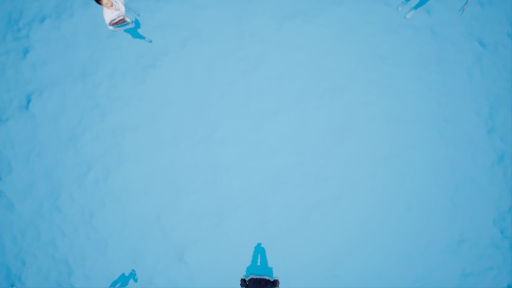person: (88, 1, 156, 46), (240, 235, 284, 288)
